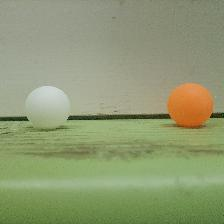WhiteBall: (24, 85, 70, 129)
YellowBall: (167, 82, 213, 127)
